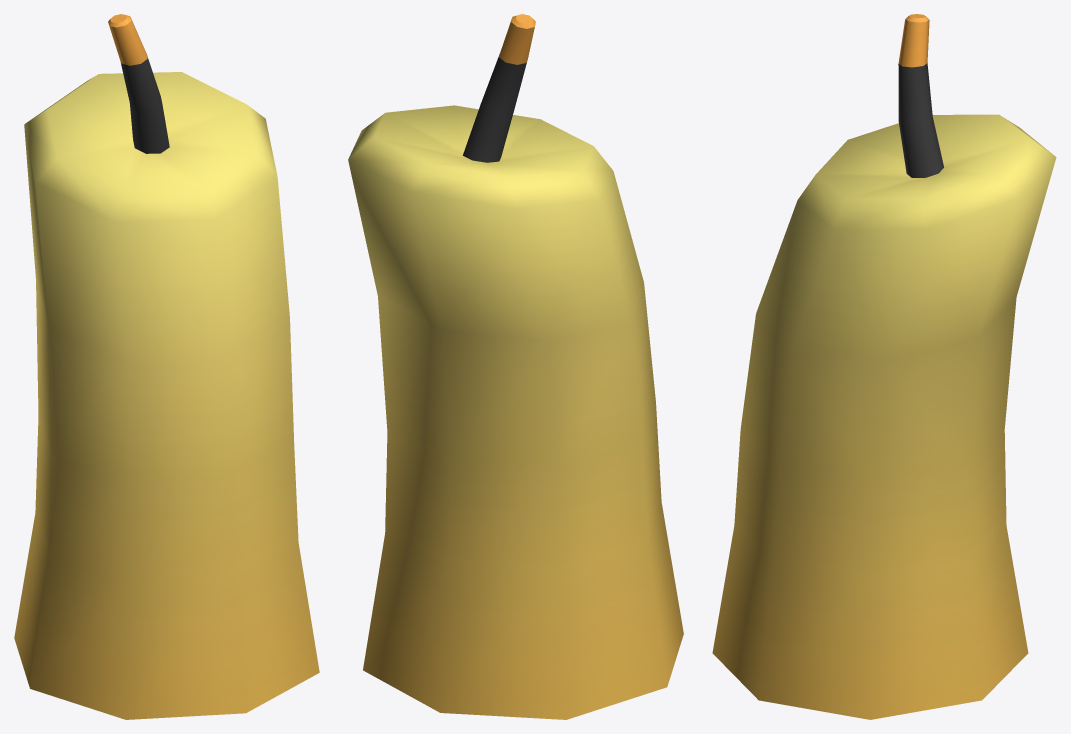
The model's file is Candle_2.glb.
The picture shows the model from 3 angles, left to right: view 1: azimuth 30°, elevation 25°; view 2: azimuth 150°, elevation 25°; view 3: azimuth 270°, elevation 25°; orthographic projection. The views are drawn at different scales.
Parts seen in each view (by area): view 1: Candle_2; view 2: Candle_2; view 3: Candle_2.
Part boxes in pixels (left/top/right/bottom): Candle_2: left=14, top=14, right=319, bottom=719; Candle_2: left=348, top=14, right=683, bottom=719; Candle_2: left=712, top=14, right=1056, bottom=719.
Bounding box in the file's own units: 0.1091 × 0.2387 × 0.1188.
Materials: 1 (1 with a texture image).
